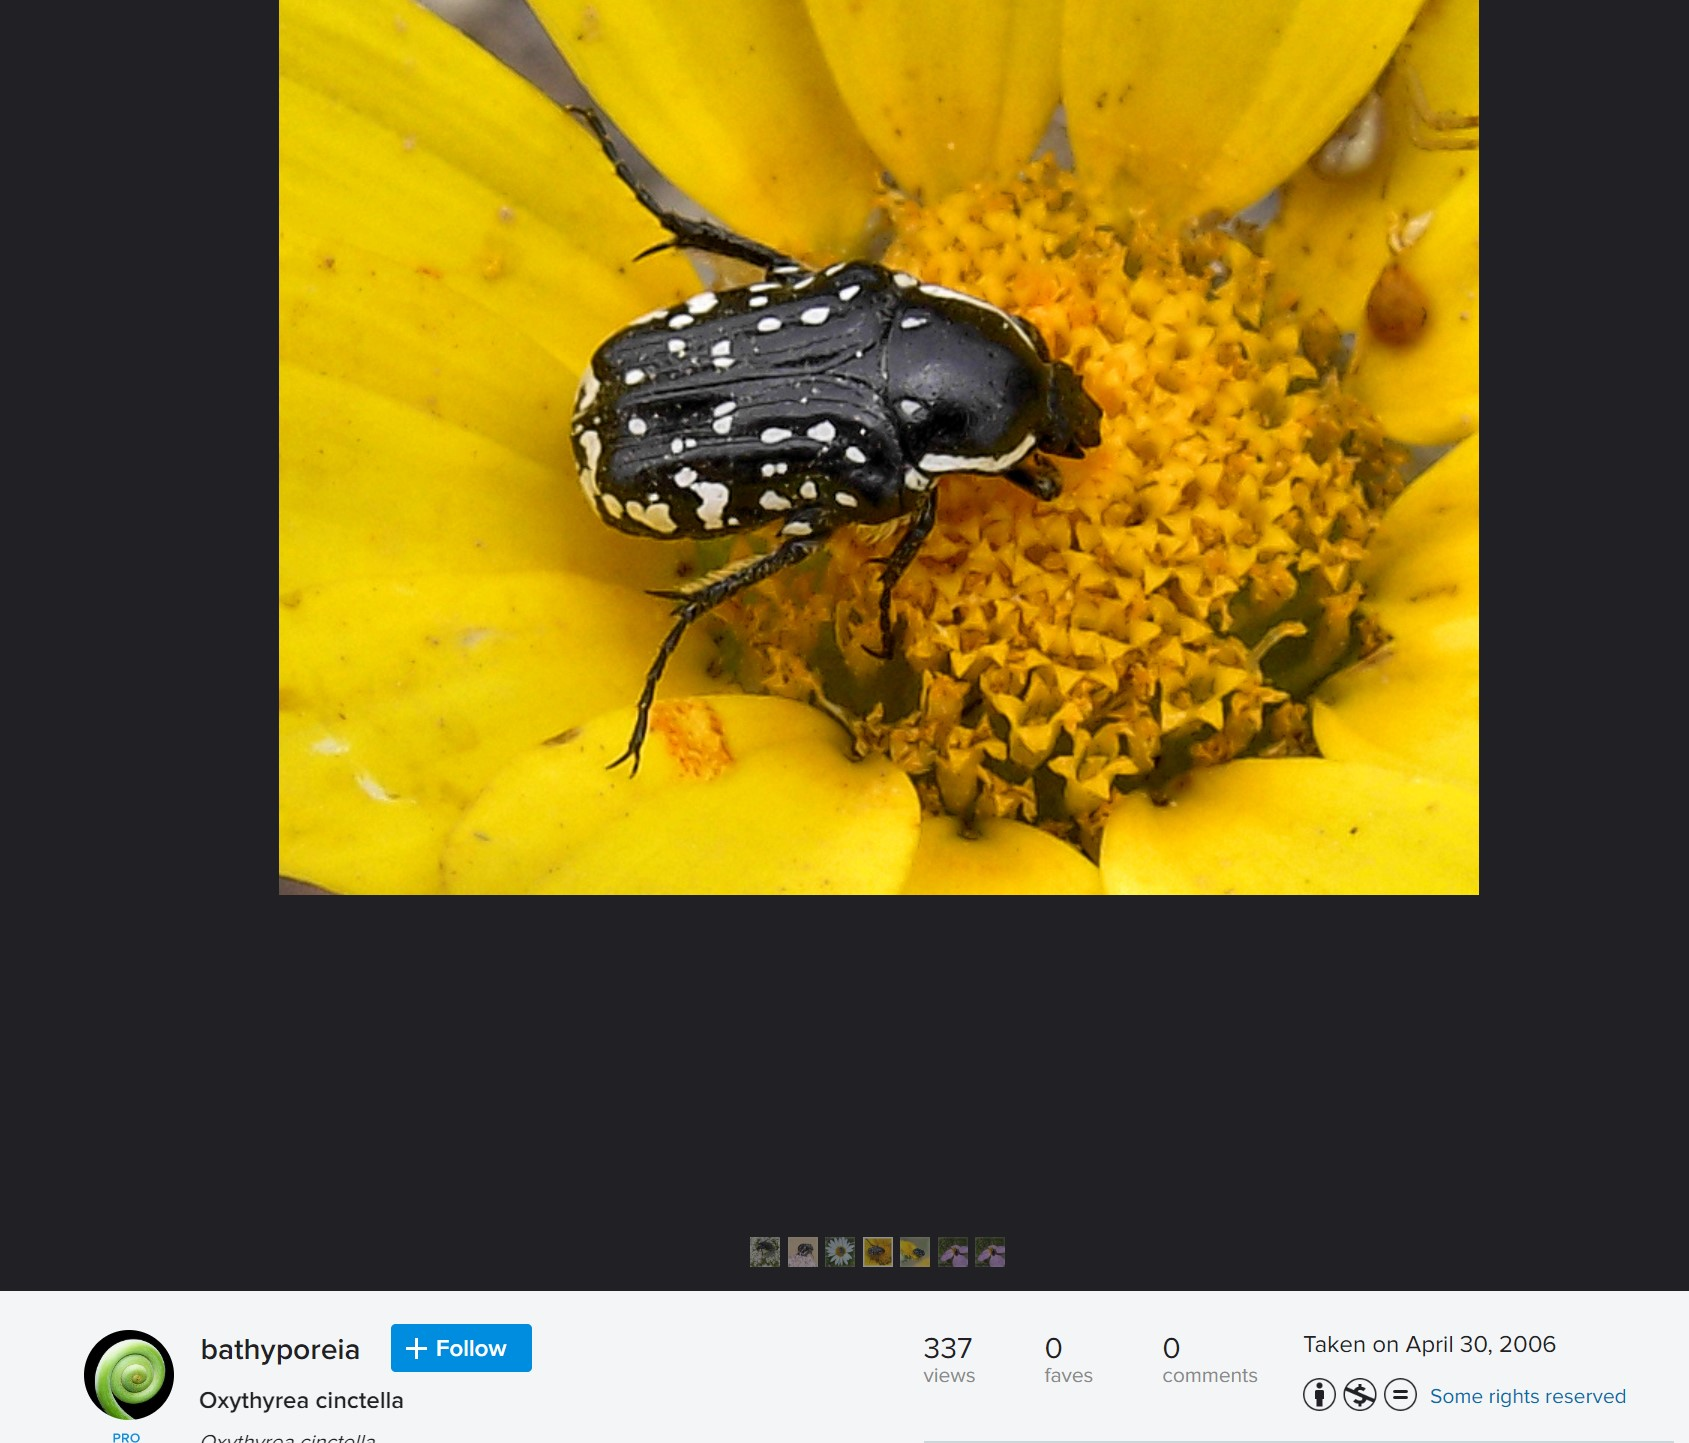Oxythyrea_cinctella: (541, 76, 1126, 787)
